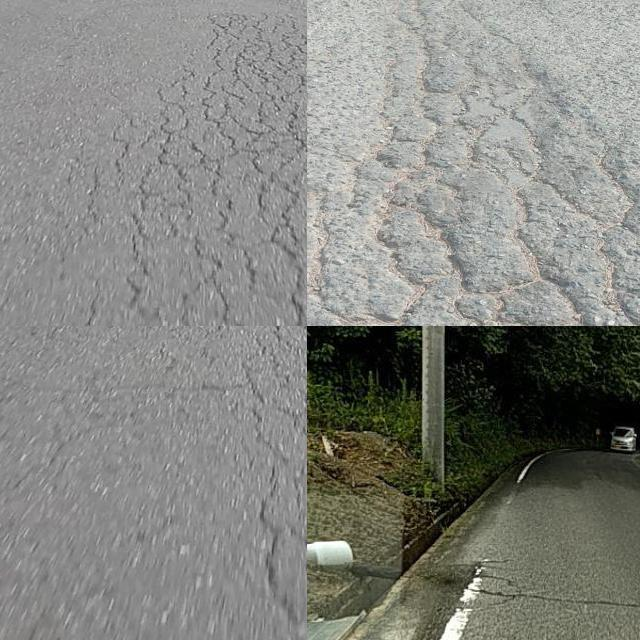Melintang: (487, 578, 640, 627)
Retak Buaya: (307, 0, 640, 326), (75, 21, 307, 326), (207, 326, 307, 640)
